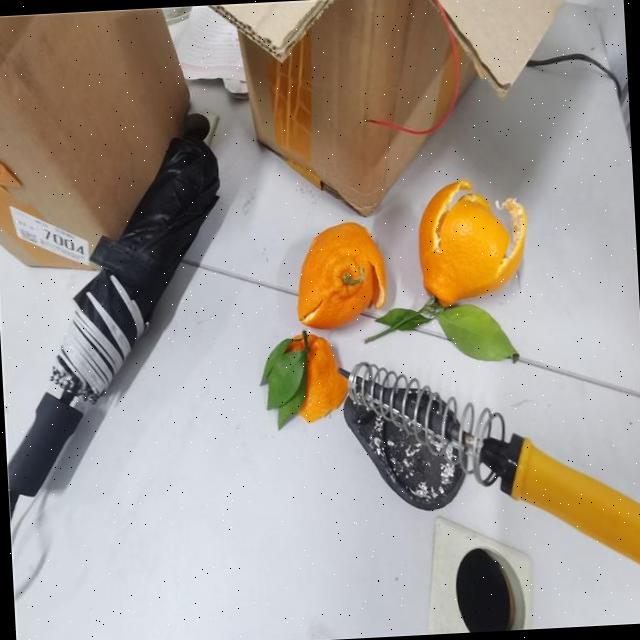orange-peel: (414, 175, 530, 308), (290, 218, 390, 332), (282, 328, 351, 424)
